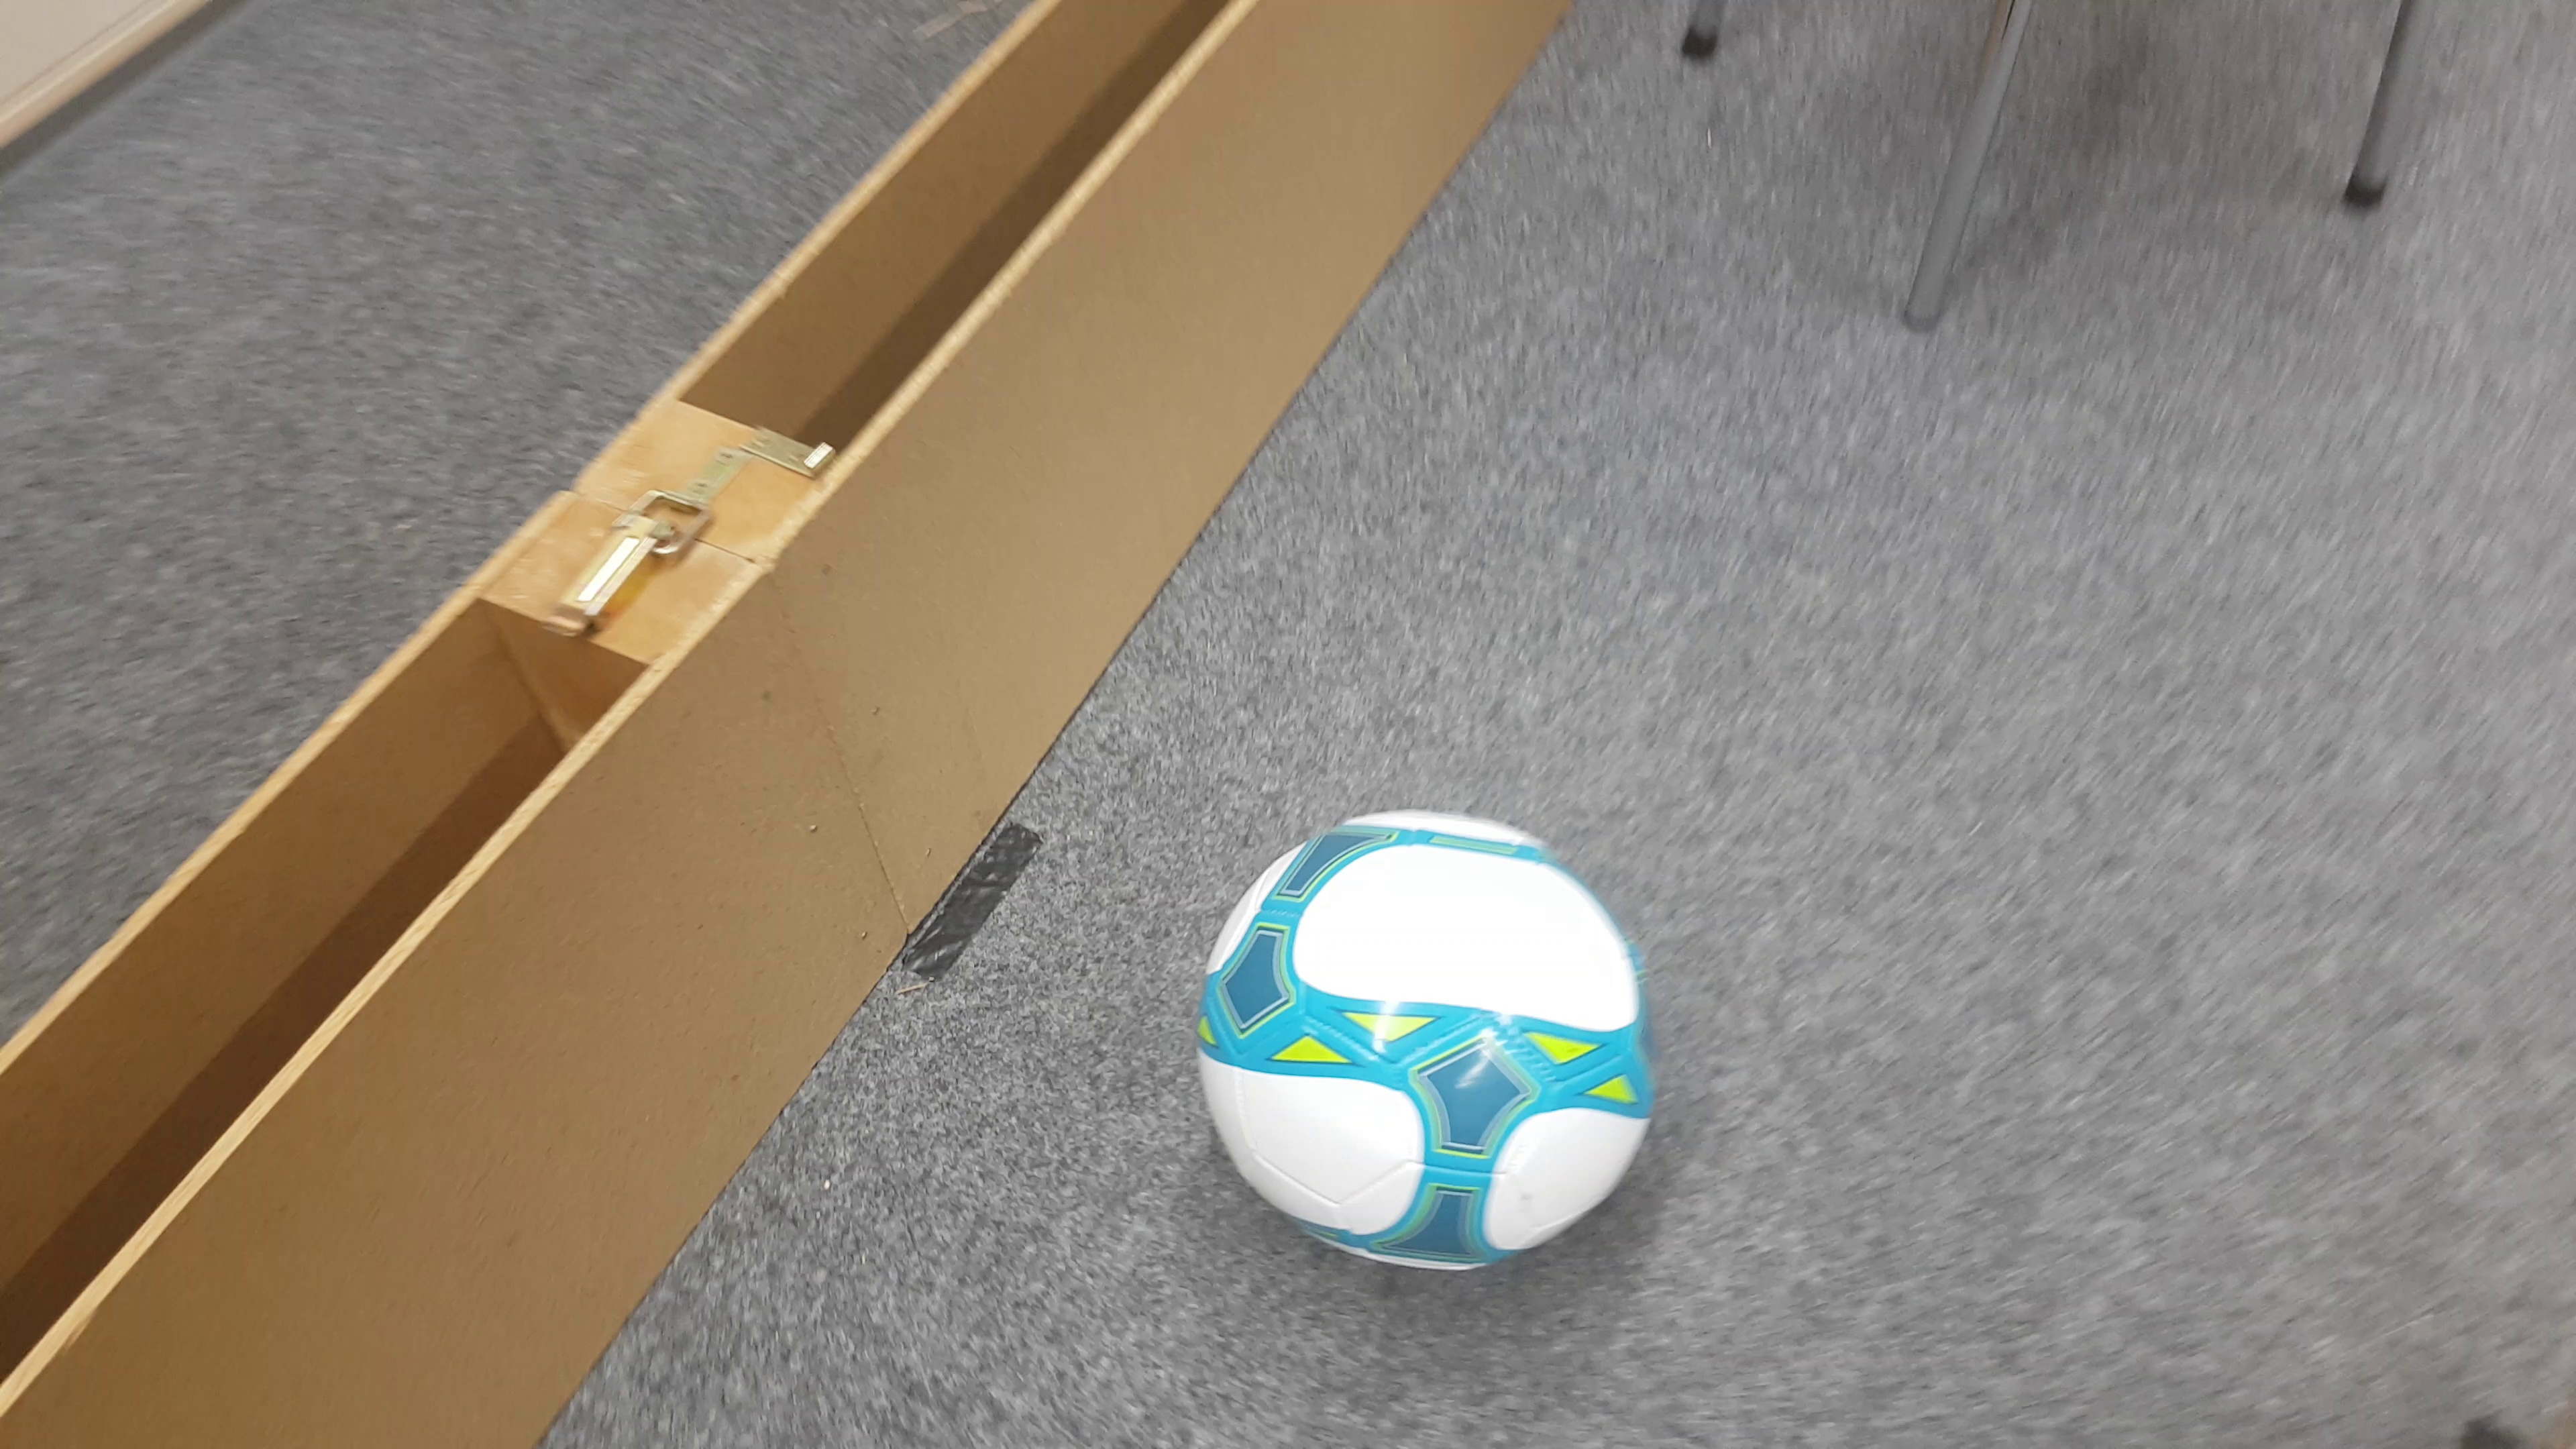kick: (1191, 810, 1652, 1265)
